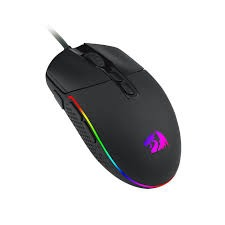mouse: (44, 39, 182, 188)
